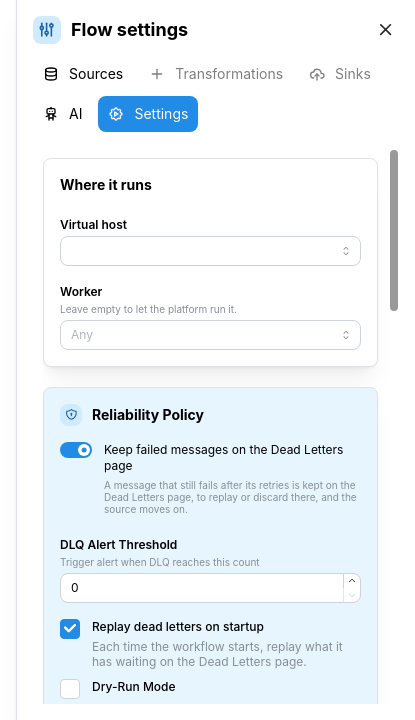
workflow settings: dead letters › switching it off leaves failed messages on the source and turns off replay on startup
Expected: the checkbox labelled "Replay dead letters on startup" is enabled, x1=60 y1=619 x2=80 y2=639
Click the switch labelled "Keep failed messages on the Dead Letters page". click: (210, 478)
box: x1=60 y1=442 x2=361 y2=515
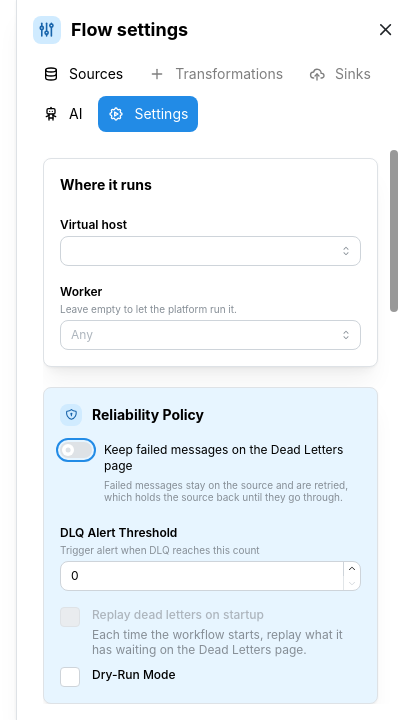
Expected: the text "stay on the source and are retried" is shown, x1=104 y1=479 x2=348 y2=503
Expected: the checkbox labelled "Replay dead letters on startup" is disabled, x1=60 y1=607 x2=80 y2=627
